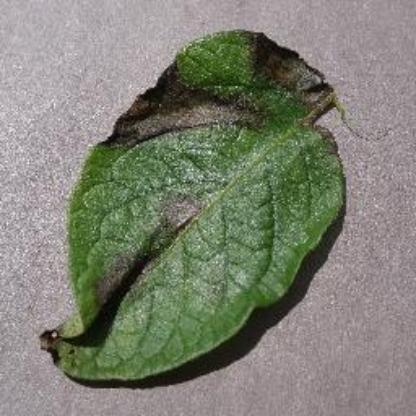Late-Blight: (38, 23, 354, 382)
